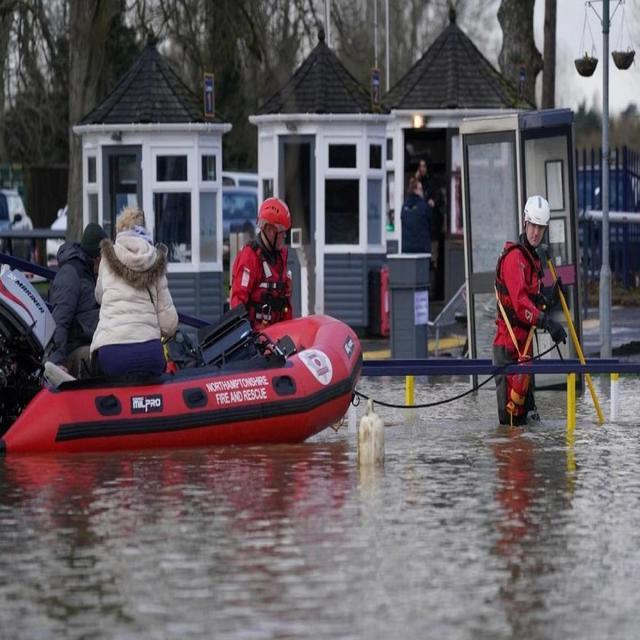Person-RiskLevel2: (483, 195, 565, 429), (224, 197, 315, 328)
Person-RiskLevel3: (95, 205, 196, 385), (47, 212, 104, 376)
